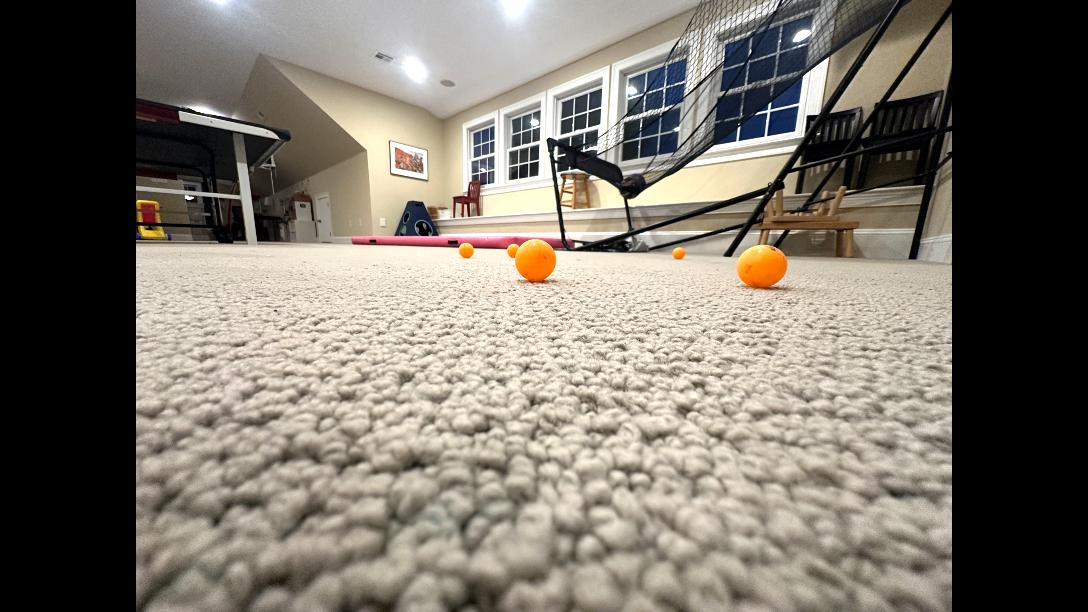Table-Tennis-Ball: (736, 246, 788, 286), (514, 240, 555, 280), (458, 242, 474, 258), (508, 243, 520, 256), (672, 247, 686, 258)
